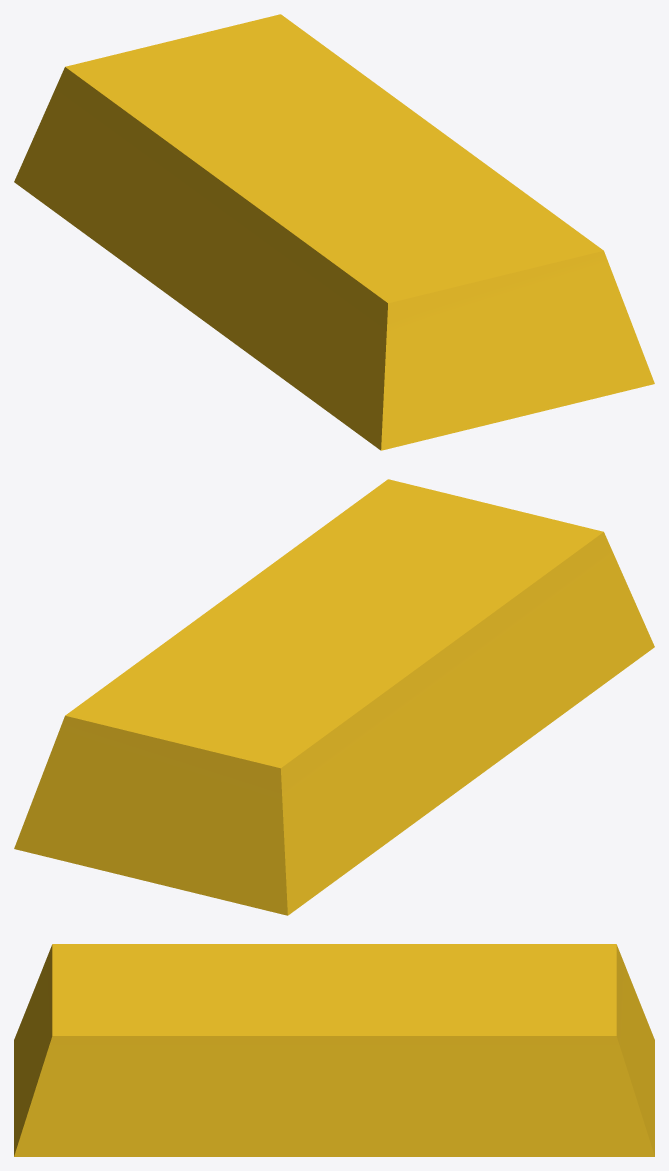
Rendered from gold.fbx.
3 views of the same model, one above another, from view 1: azimuth 30°, elevation 25°; view 2: azimuth 150°, elevation 25°; view 3: azimuth 270°, elevation 25° (orthographic). The views are drawn at different scales.
Visible parts, largest first — view 1: Cube; view 2: Cube; view 3: Cube.
Part boxes in pixels (left/top/right/bottom): Cube: left=14, top=14, right=654, bottom=450; Cube: left=14, top=479, right=654, bottom=915; Cube: left=14, top=944, right=654, bottom=1156.
Bounding box in the file's own units: 123 × 53.44 × 286.
Materials: 1 (1 with a texture image).
